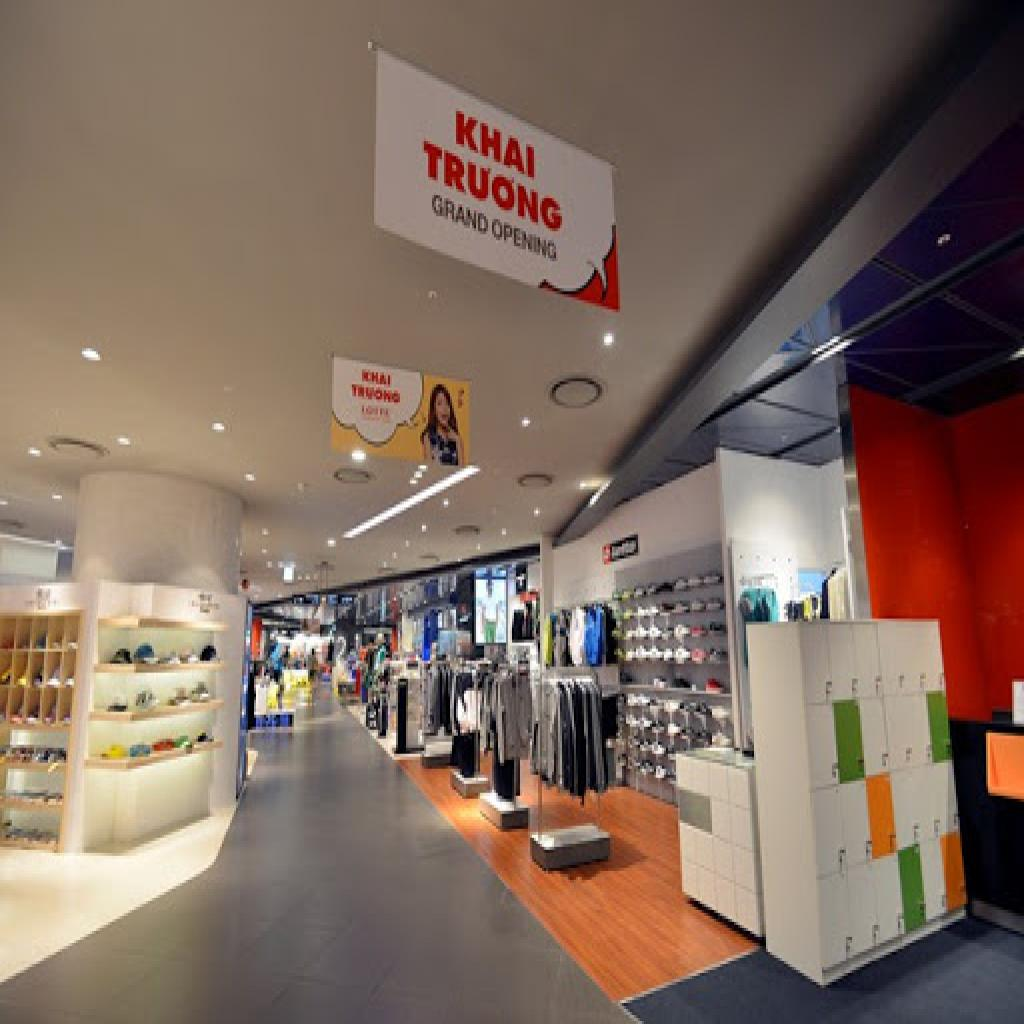text: (420, 132, 568, 243), (454, 108, 538, 183), (490, 216, 560, 267), (430, 189, 492, 240), (350, 382, 404, 408), (360, 366, 394, 390)
